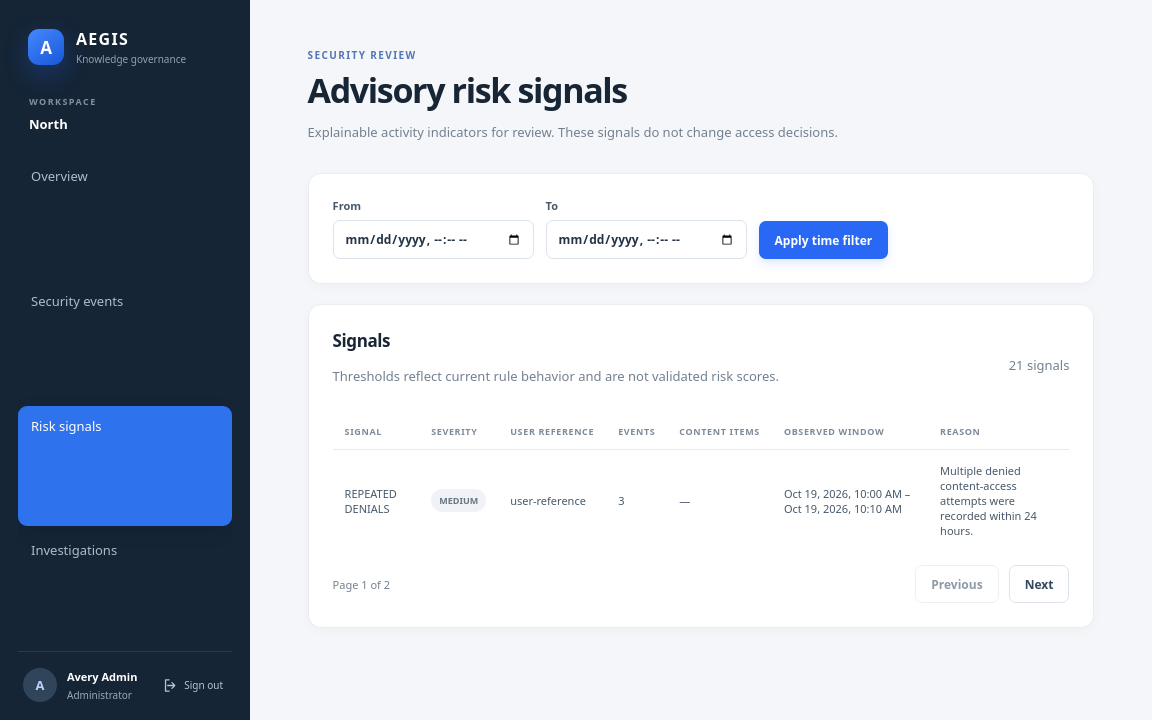
it: advisory risk review › shows paginated advisory signals to a user with security-event permission
Expected: the heading "Advisory risk signals" is shown, x1=308 y1=67 x2=627 y2=113
Expected: the text "REPEATED DENIALS" is shown, x1=333 y1=450 x2=419 y2=551
Click the button "Next" at (1039, 584), box x1=1009 y1=565 x2=1069 y2=603
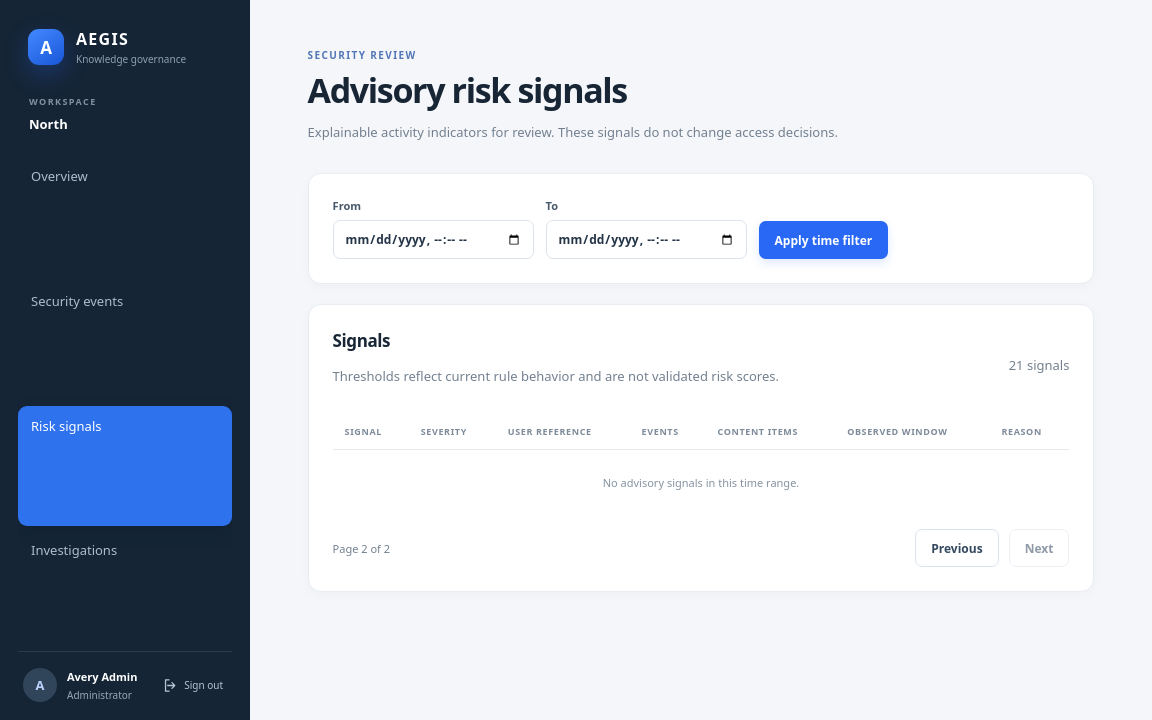
Now the text "No advisory signals in this time range." is shown, box x1=333 y1=450 x2=1069 y2=515
